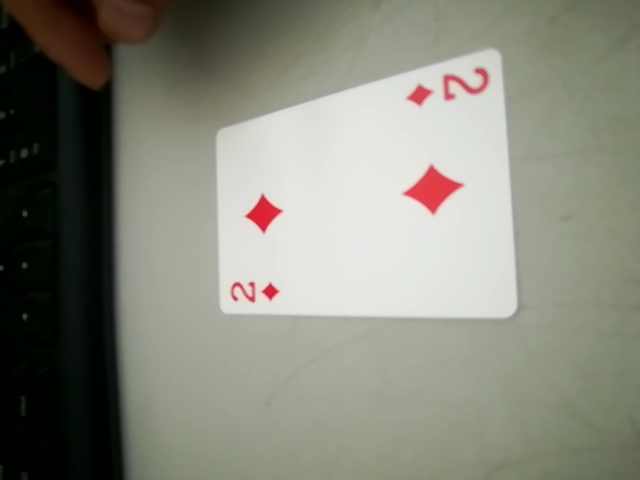fk 2: (399, 59, 499, 114), (222, 272, 287, 312)
